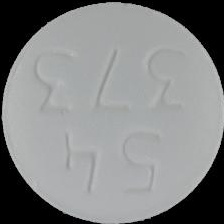43353-818: (0, 0, 224, 224)
